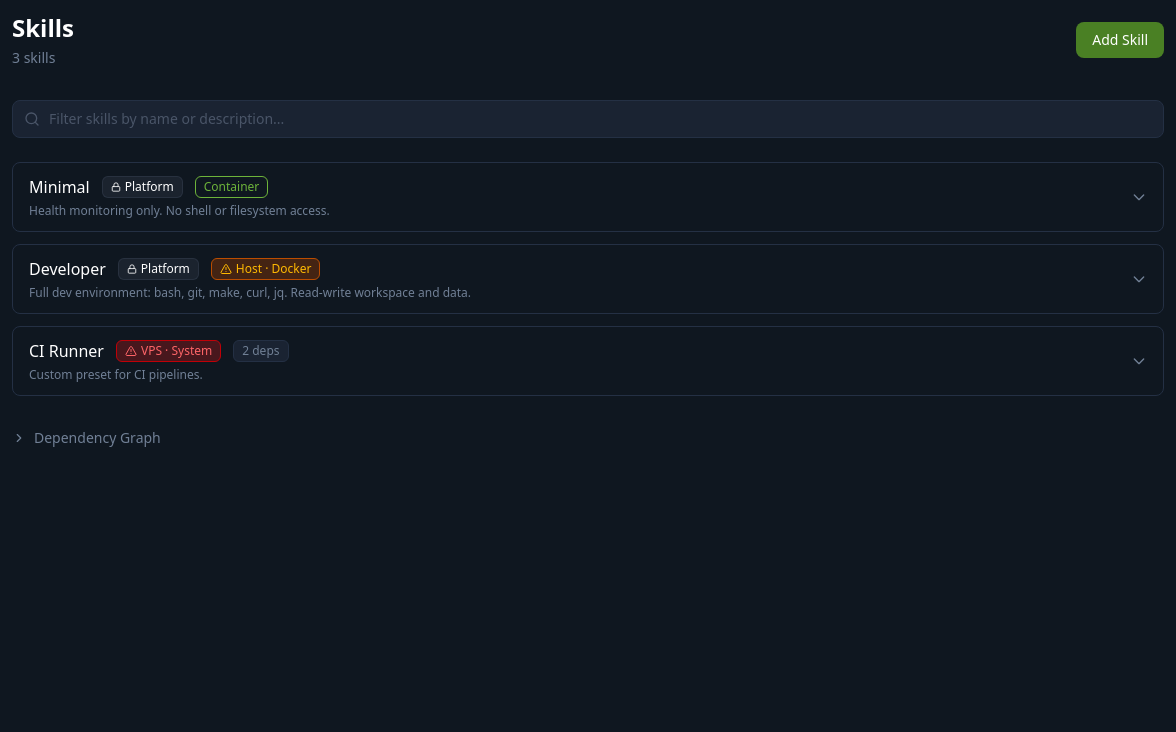
Scenario: SkillsClient › create form includes instructions textarea
Expected: the text "Minimal" is shown, x1=29 y1=175 x2=90 y2=199
Click the button "Add Skill" at x=1120, y=40, box x1=1076 y1=22 x2=1164 y2=58
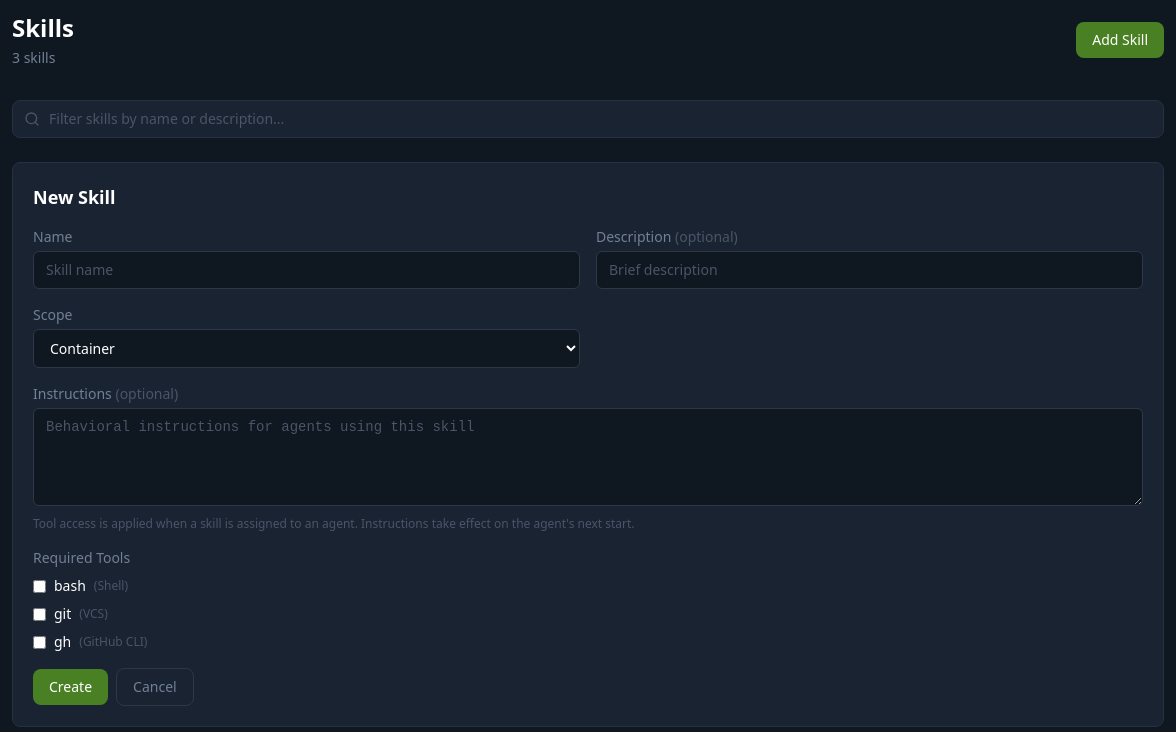
Now the heading "New Skill" is shown, box x1=33 y1=185 x2=116 y2=209
Now the text box with placeholder "Behavioral instructions for agents using this skill" is shown, box x1=33 y1=408 x2=1143 y2=506
